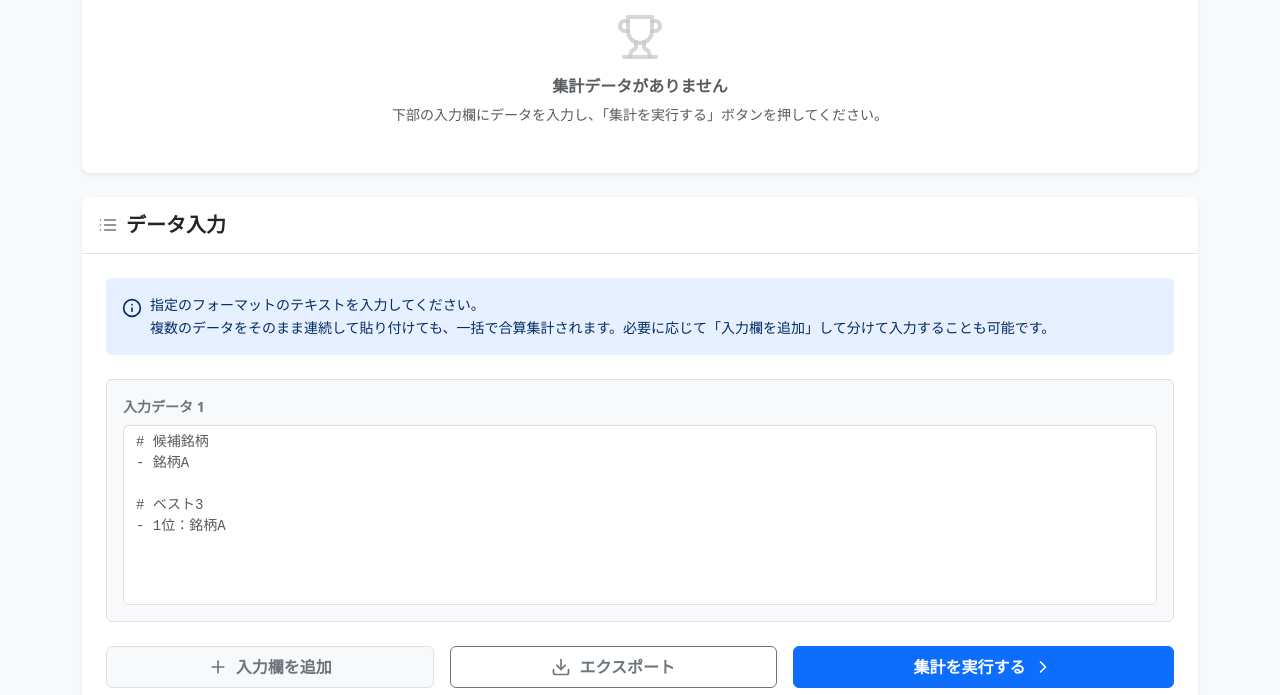
Test: App › 集計ロジック › 複数の入力欄を追加できる
(page scrolled)
Click the button "入力欄を追加" at (270, 667), box [106,646,434,688]
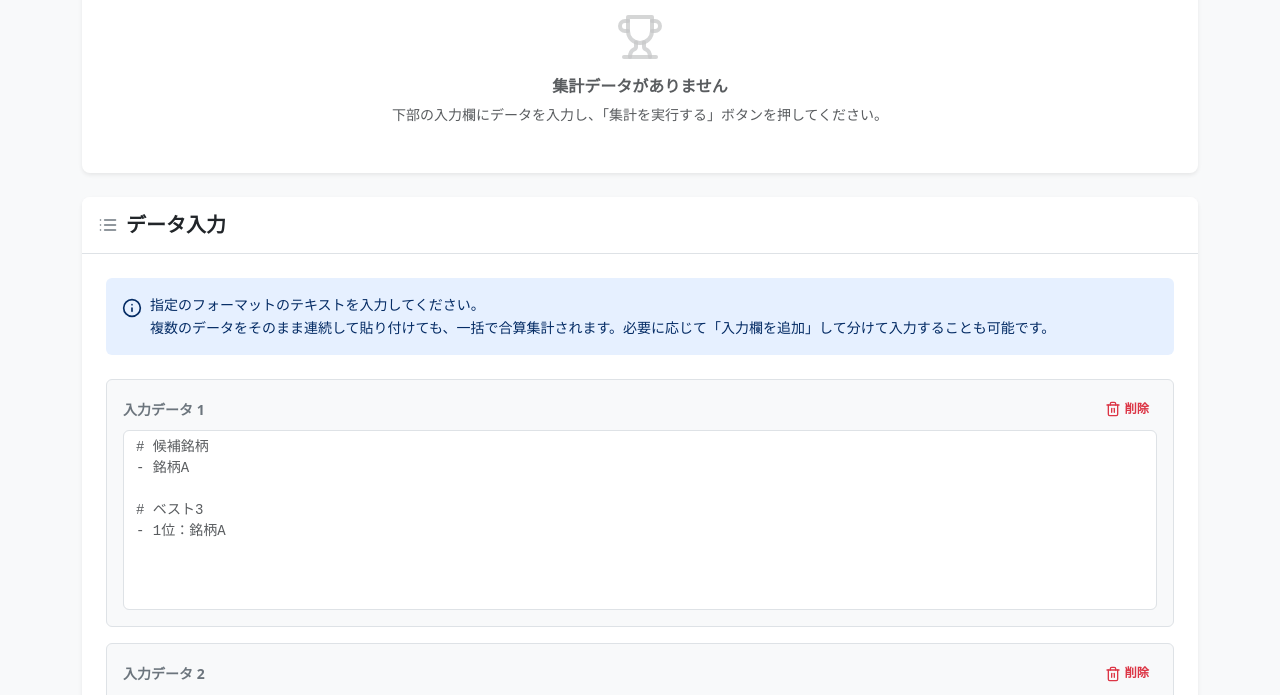
Now the text "入力データ 2" is shown, box [123,663,205,684]
